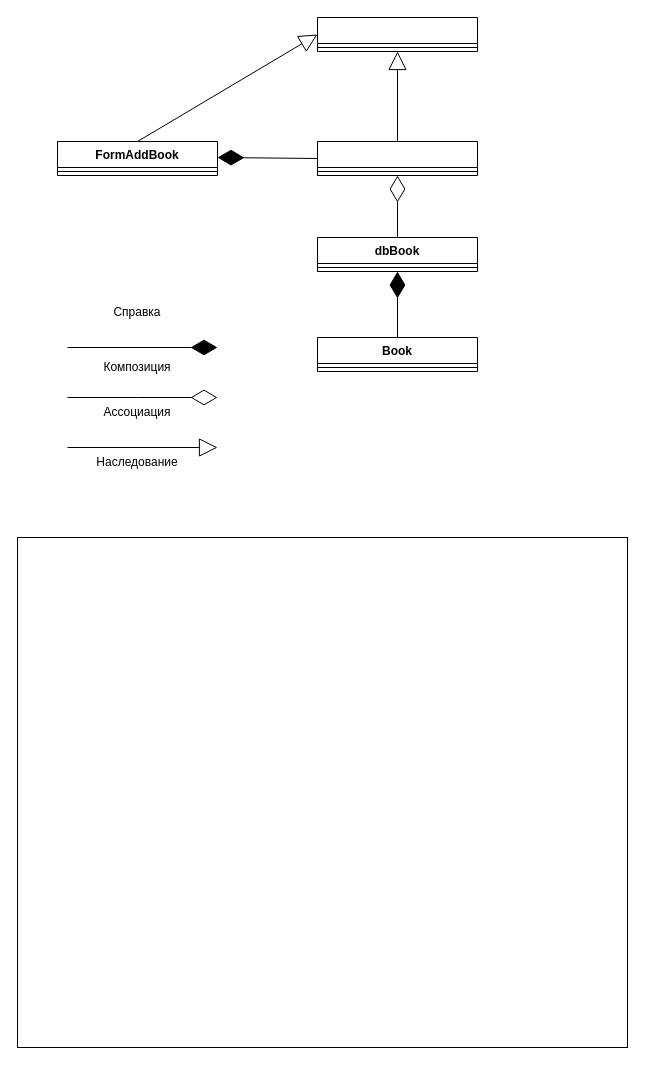
Some shapes in this 645 by 1065 pixel diagram are drawn without their labels. The centre of each missing label's shape, as x and y in pixels:
MainWindow: pixel 397 158
Window: pixel 397 34
